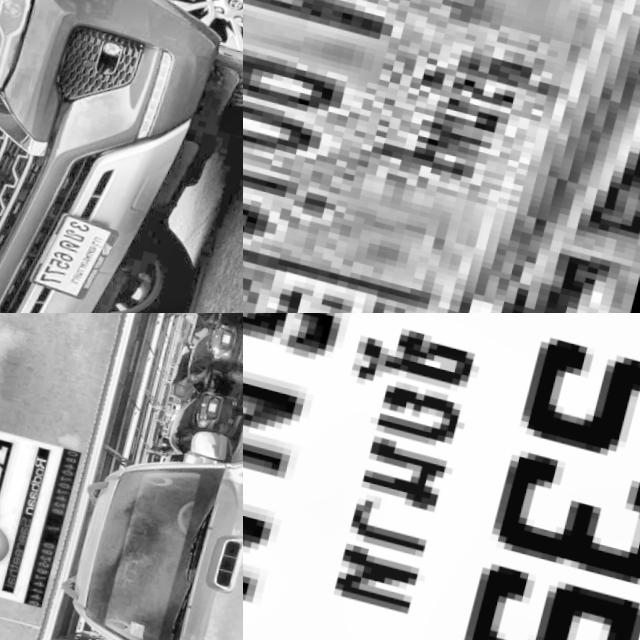license-plate: (243, 313, 640, 640), (243, 0, 640, 313), (39, 199, 132, 299), (206, 393, 225, 408), (219, 325, 236, 339)
